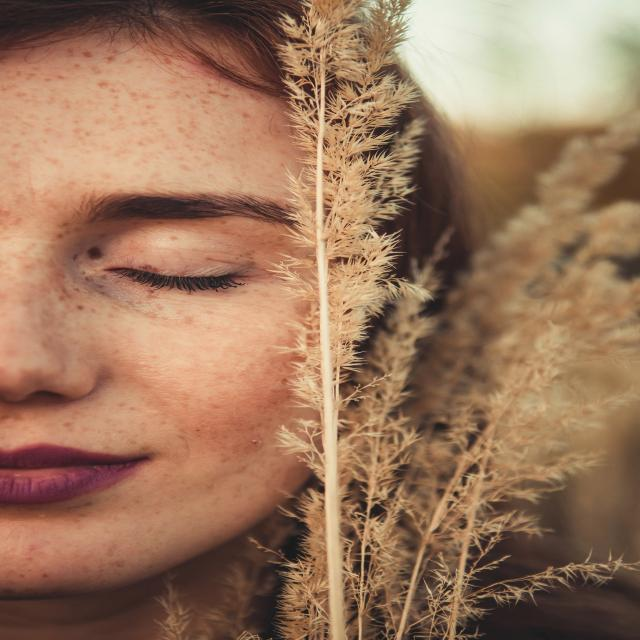adult: (0, 0, 467, 640)
